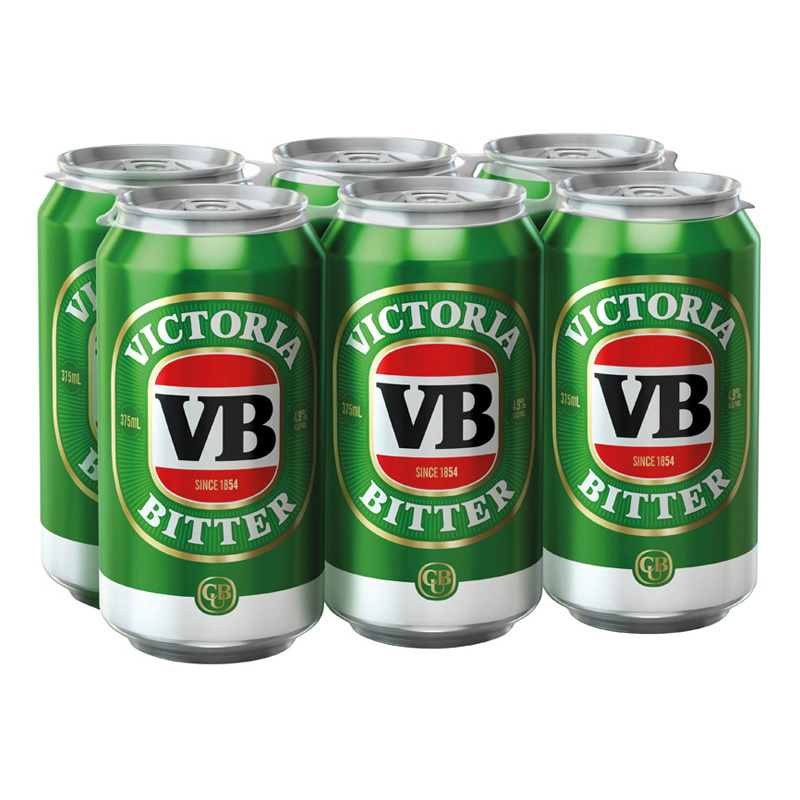cylinder: (96, 183, 328, 664), (319, 175, 547, 649), (539, 170, 761, 634), (37, 143, 248, 609)
